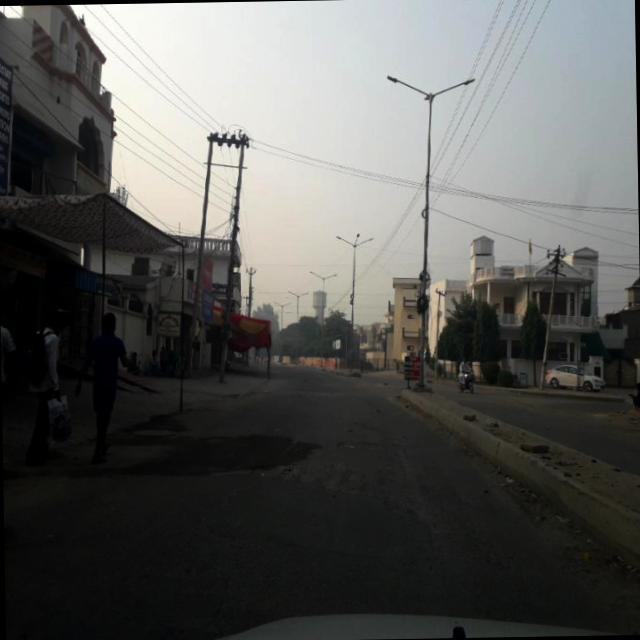pothole: (230, 416, 432, 492), (372, 490, 502, 562)
